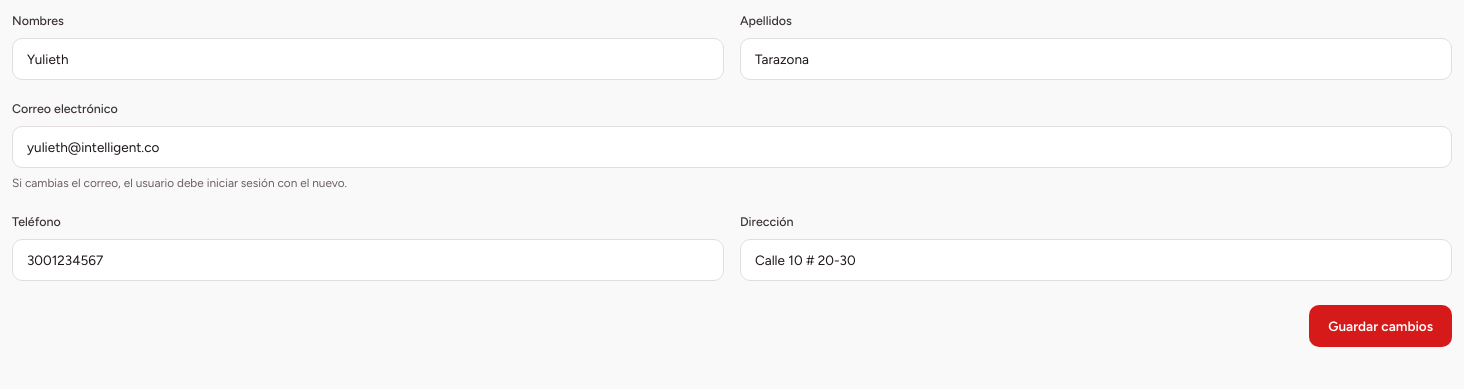
UserPersonalDataForm contact data › rejects a phone with characters other than digits
Step 1. Replace the text in the field labelled "Teléfono" with "300 123 4567" → [368, 260], box [12,239,724,281]
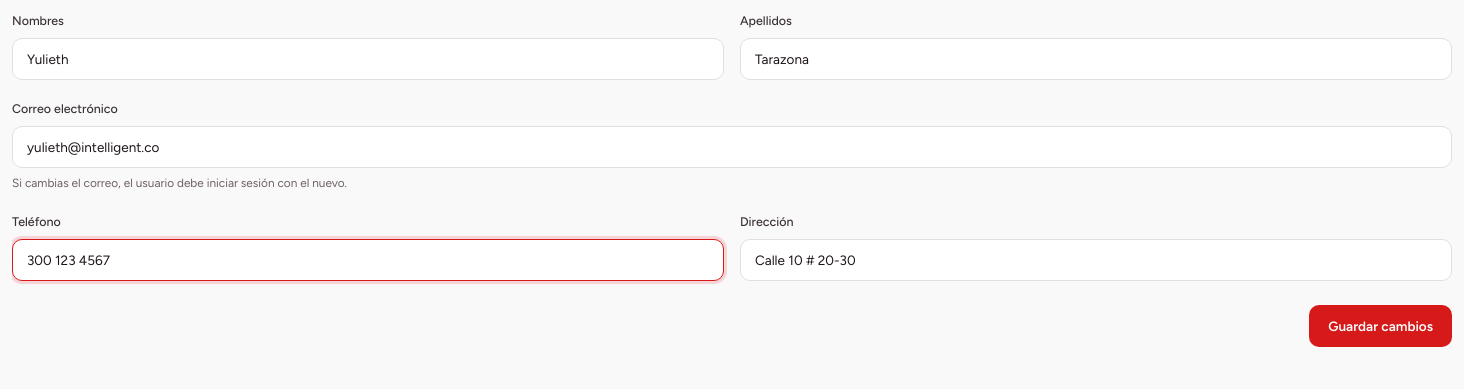
Step 2. Click the button "Guardar cambios" → [1381, 326], box [1309,305,1452,347]
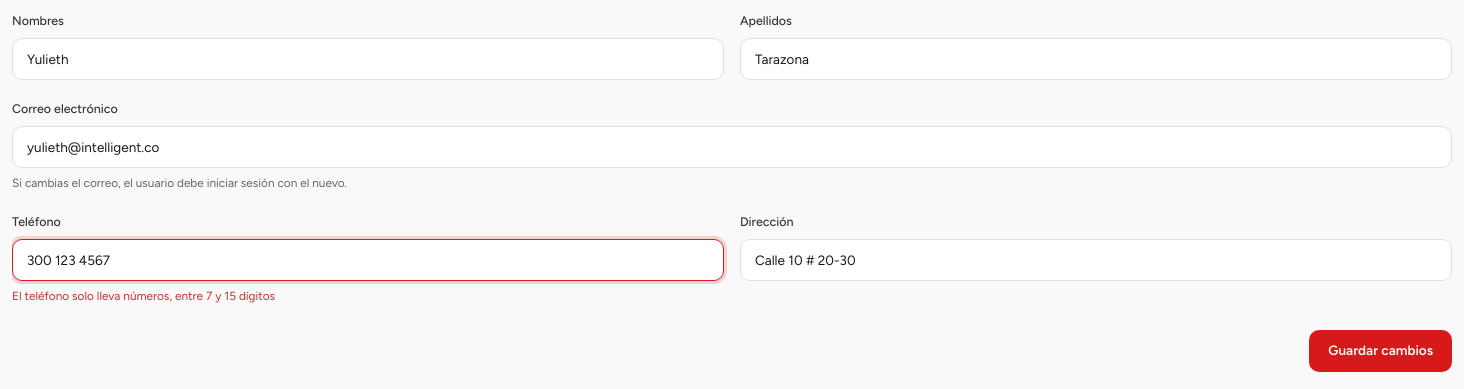
Now the text "El teléfono solo lleva números, entre 7 y 15 dígitos" is shown, box [12,289,275,303]
